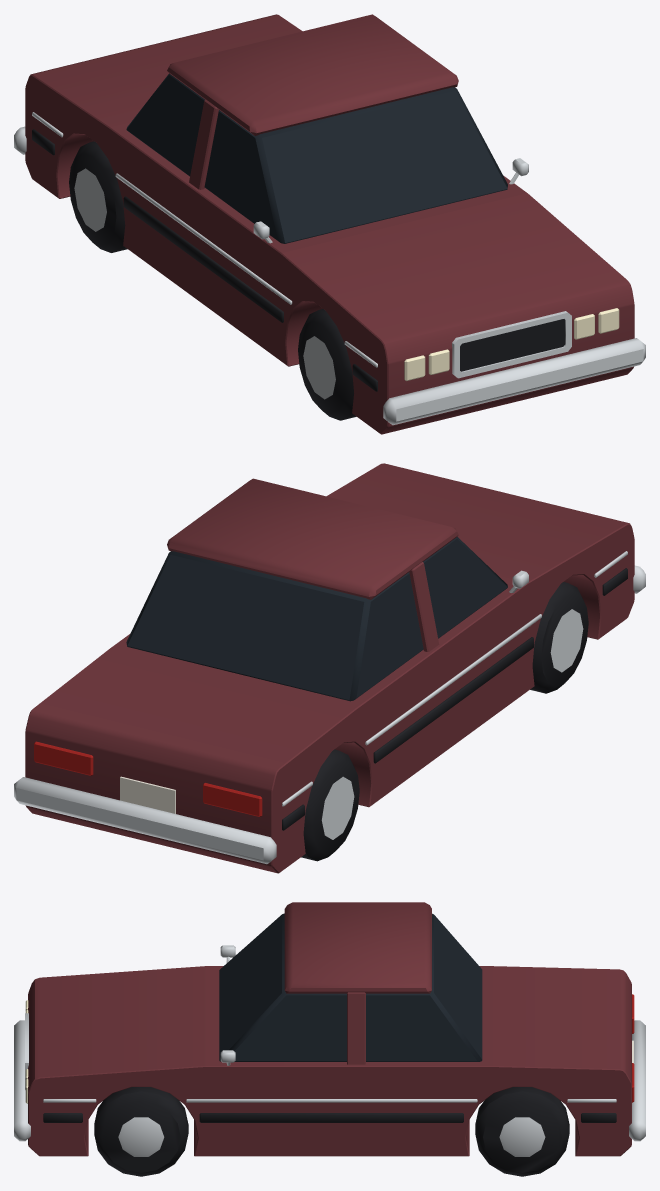
File: Shop_ParkedCar.fbx
The picture shows the model from 3 angles, top to bottom: view 1: azimuth 30°, elevation 25°; view 2: azimuth 150°, elevation 25°; view 3: azimuth 270°, elevation 25°; orthographic projection. The views are drawn at different scales.
Parts seen in each view (by area): view 1: Body, Windows, Chrome, Rubber, Headlights; view 2: Body, Windows, Chrome, Rubber, Taillights, Plate; view 3: Body, Windows, Rubber, Chrome.
Boxes of the visible parts, box(x1,y1,x2,y2) form: Body: box(25, 14, 634, 434); Windows: box(126, 73, 507, 243); Chrome: box(14, 112, 645, 425); Rubber: box(32, 129, 565, 420); Headlights: box(404, 308, 619, 380); Body: box(25, 463, 634, 873); Windows: box(126, 537, 507, 701); Chrome: box(14, 551, 645, 864); Rubber: box(282, 568, 627, 861); Taillights: box(34, 741, 262, 816); Plate: box(120, 776, 175, 813); Body: box(28, 902, 631, 1156); Windows: box(219, 913, 482, 1061); Rubber: box(29, 1018, 616, 1176); Chrome: box(14, 945, 645, 1156).
Size of the model in its own units: 685 by 550 by 1675.
